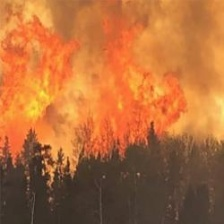fire: (1, 6, 211, 167)
